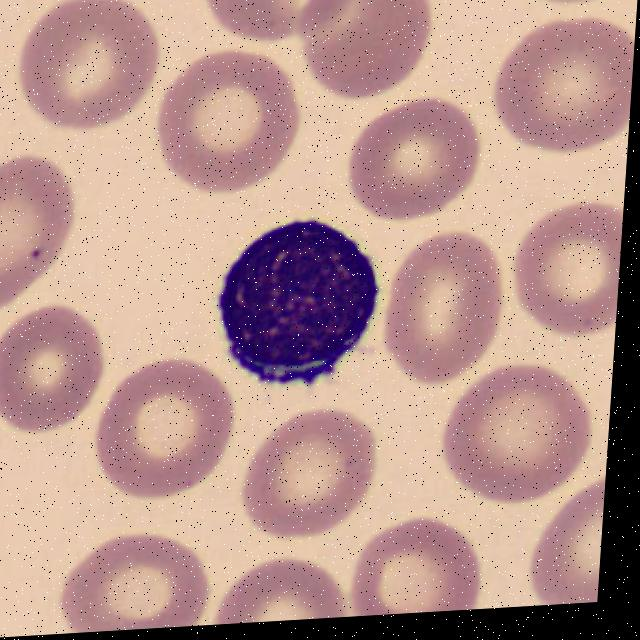lymphocyte: (204, 210, 384, 400)
rbc: (149, 51, 299, 195), (432, 365, 597, 495), (372, 238, 507, 387), (486, 23, 635, 154), (232, 411, 382, 537), (93, 367, 232, 500), (22, 0, 162, 129), (346, 97, 483, 222), (55, 530, 205, 634), (513, 201, 624, 341), (294, 0, 441, 102), (354, 514, 489, 616), (0, 314, 105, 434), (0, 154, 77, 310), (517, 475, 605, 607), (216, 558, 349, 625), (192, 0, 355, 43), (503, 0, 634, 7)
